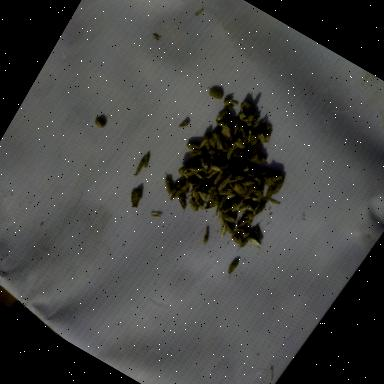pbw: (170, 194, 192, 216), (231, 143, 254, 164), (166, 176, 186, 200), (262, 168, 284, 188), (213, 104, 232, 127), (253, 115, 270, 140), (222, 138, 240, 161), (217, 170, 234, 194), (232, 124, 252, 144), (186, 187, 206, 207), (246, 150, 268, 168), (208, 131, 228, 150), (244, 115, 262, 136), (238, 210, 256, 231), (186, 177, 204, 198), (218, 122, 236, 142), (270, 176, 286, 198), (158, 176, 176, 195), (212, 194, 228, 215), (205, 190, 221, 210), (260, 124, 276, 144), (177, 164, 197, 180), (198, 134, 216, 151), (254, 164, 272, 181), (214, 208, 230, 226), (216, 116, 234, 132), (236, 234, 250, 254), (217, 184, 234, 200), (168, 187, 184, 204), (230, 171, 246, 188), (203, 198, 219, 215), (206, 87, 224, 102), (232, 224, 251, 238), (188, 146, 204, 162), (222, 96, 239, 111), (188, 162, 206, 176), (262, 185, 276, 203), (252, 200, 266, 218), (242, 128, 256, 146), (242, 183, 256, 201), (199, 228, 213, 246), (216, 220, 230, 238), (185, 140, 202, 154), (200, 166, 213, 184), (206, 191, 222, 205), (222, 158, 236, 174), (230, 200, 244, 216), (229, 233, 245, 247), (226, 260, 240, 276), (228, 121, 242, 137), (212, 151, 226, 167), (226, 162, 240, 178), (240, 176, 256, 190), (224, 199, 237, 216), (250, 140, 263, 157), (132, 161, 145, 178), (197, 154, 212, 168), (206, 167, 220, 182), (222, 212, 238, 225), (212, 170, 225, 186), (205, 136, 219, 150), (196, 189, 210, 203), (234, 138, 248, 152), (209, 161, 224, 174), (239, 101, 254, 114), (238, 202, 251, 216), (250, 174, 264, 187), (186, 200, 200, 213), (248, 237, 262, 250), (140, 154, 152, 169), (202, 151, 216, 163), (224, 190, 237, 202), (207, 146, 220, 158), (93, 118, 106, 130), (186, 176, 199, 188), (252, 187, 264, 199), (189, 154, 201, 166), (246, 205, 258, 217), (205, 182, 217, 194), (198, 136, 208, 150), (256, 133, 268, 144), (179, 180, 190, 192), (226, 182, 239, 192), (262, 178, 274, 188), (246, 194, 258, 204), (225, 225, 235, 236), (194, 172, 204, 180)
